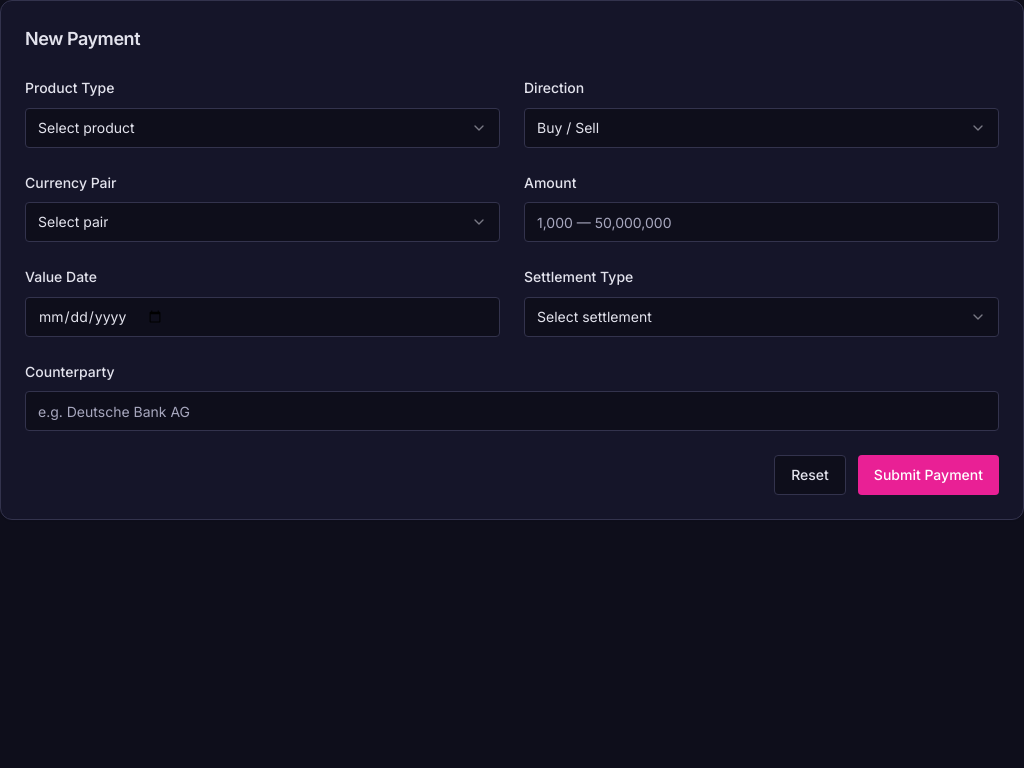
Test: PaymentForm › shows validation errors for empty submission
Click the button "Submit Payment": x=928, y=475 [858,455,999,495]
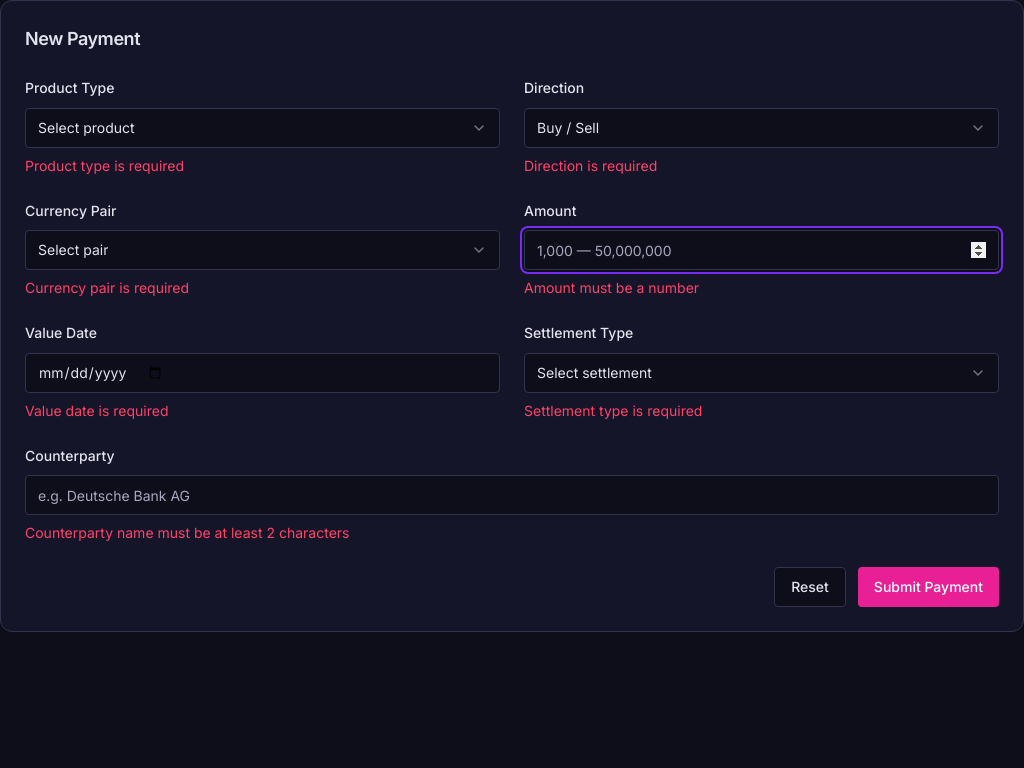
Expected: the message "Product type is required" is shown, [25,156,184,174]
